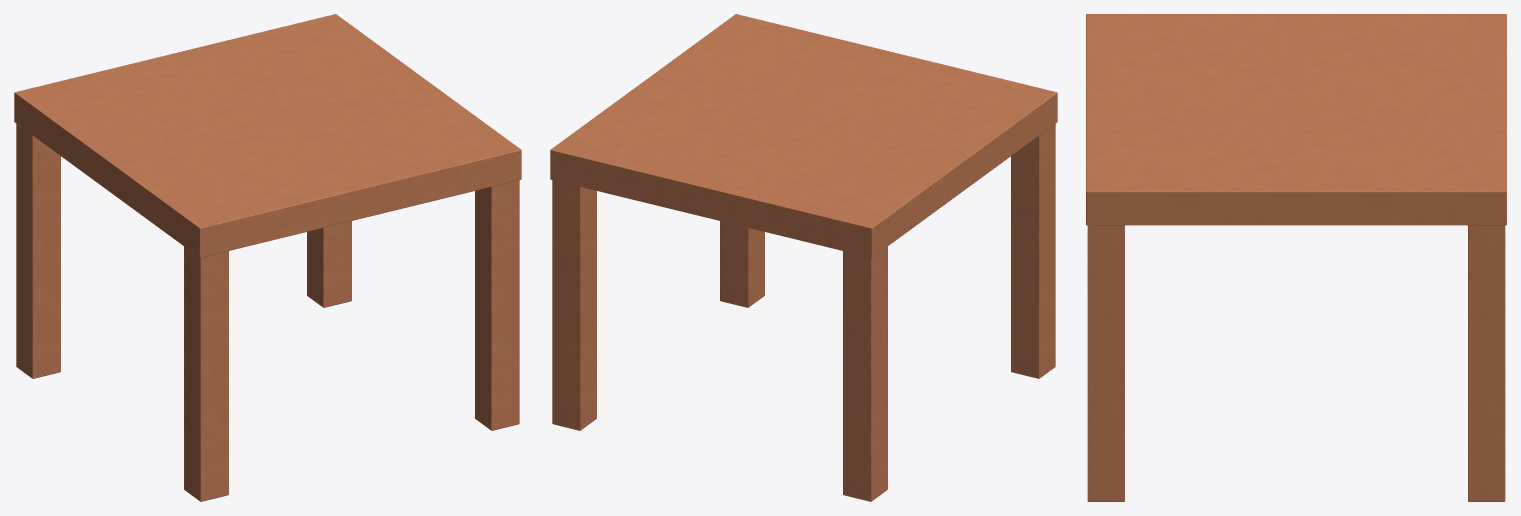
Rendered from LACK_cartoon.glb.
The picture shows the model from 3 angles, left to right: view 1: azimuth 30°, elevation 25°; view 2: azimuth 150°, elevation 25°; view 3: azimuth 270°, elevation 25°; orthographic projection. The views are drawn at different scales.
Visible parts, largest first — view 1: whole_tableTop, whole_leg_3_screw115980_3, whole_leg_2_screw115980_2, whole_leg_4_screw115980_4, whole_leg_1_screw115980_1; view 2: whole_tableTop, whole_leg_4_screw115980_4, whole_leg_1_screw115980_1, whole_leg_3_screw115980_3, whole_leg_2_screw115980_2; view 3: whole_tableTop, whole_leg_1_screw115980_1, whole_leg_2_screw115980_2.
Part boxes in pixels (x1,y1,x2,y2): whole_tableTop: [14, 14, 521, 257]; whole_leg_3_screw115980_3: [184, 246, 228, 501]; whole_leg_2_screw115980_2: [475, 180, 519, 430]; whole_leg_4_screw115980_4: [16, 124, 60, 378]; whole_leg_1_screw115980_1: [307, 221, 351, 307]; whole_tableTop: [550, 14, 1057, 257]; whole_leg_4_screw115980_4: [843, 246, 887, 501]; whole_leg_1_screw115980_1: [552, 180, 596, 430]; whole_leg_3_screw115980_3: [1011, 124, 1055, 378]; whole_leg_2_screw115980_2: [720, 221, 764, 307]; whole_tableTop: [1086, 14, 1506, 225]; whole_leg_1_screw115980_1: [1468, 225, 1505, 501]; whole_leg_2_screw115980_2: [1087, 225, 1124, 501].
Size of what is drawn, in the model's own units: 0.55 by 0.449 by 0.55.
4 materials, 3 textured.
